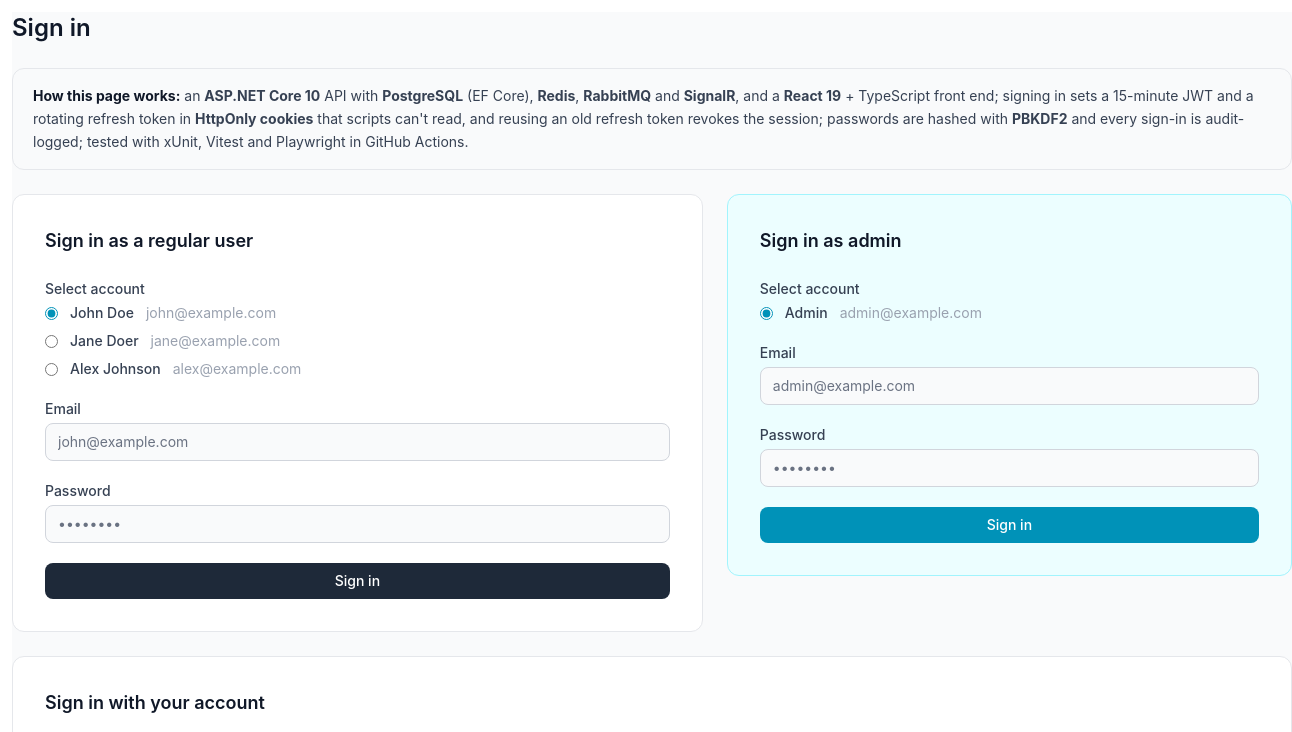
Scenario: LoginPage › falls back to a generic message when the body has no error detail
The width and height of the screenshot is (1292, 732).
What coordinates should you click on to do the following:
click the button "Sign in" below "Alex Johnson"
I would click on:
 (357, 581)
Its box is [45,563,670,599].
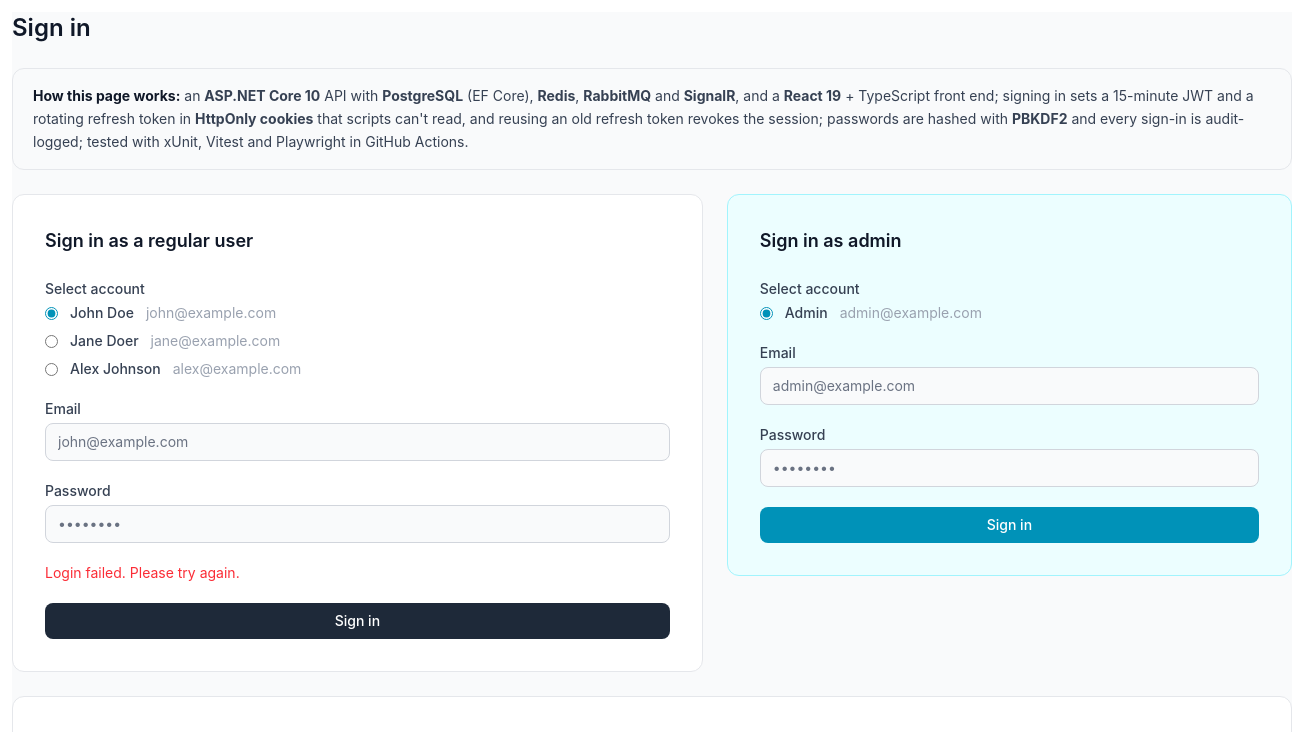
Check: the message reads "Login failed. Please try again.", box [45,564,240,581]
